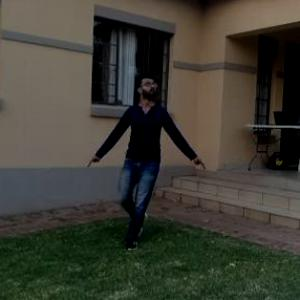land: (102, 84, 193, 229)
